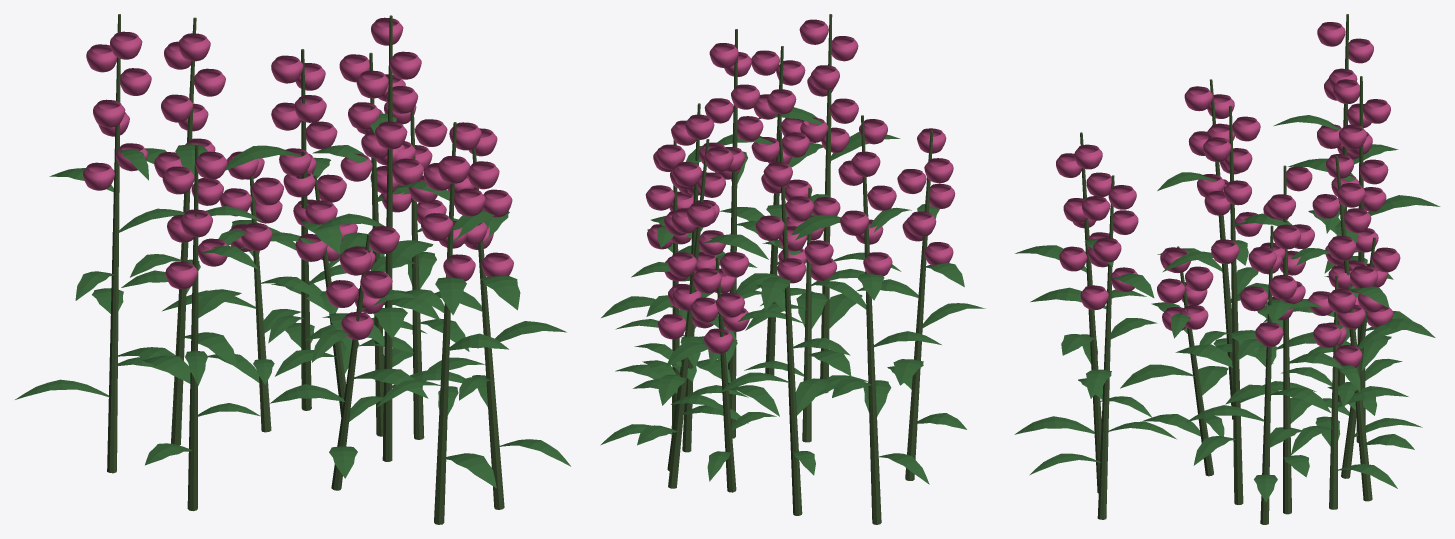
The model's file is detail_fireweed.glb.
The picture shows the model from 3 angles, left to right: view 1: azimuth 30°, elevation 25°; view 2: azimuth 150°, elevation 25°; view 3: azimuth 270°, elevation 25°; orthographic projection. The views are drawn at different scales.
Visible parts, largest first — view 1: IndividualFireweedLeaves, FireweedStem9, FireweedStem2, FireweedStem4, FireweedStem5, FireweedStem10, FireweedStem1, FireweedStem0, FireweedStem11, FireweedStem6, FireweedStem7, FireweedStem8 (+46 smaller); view 2: IndividualFireweedLeaves, FireweedStem9, FireweedStem1, FireweedStem4, FireweedStem11, FireweedStem2, FireweedStem5, FireweedStem6, FireweedStem7, FireweedStem10, FireweedStem8, FireweedBloom9_3 (+48 smaller); view 3: IndividualFireweedLeaves, FireweedStem5, FireweedStem10, FireweedStem8, FireweedStem2, FireweedStem11, FireweedStem0, FireweedStem3, FireweedStem4, FireweedStem7, FireweedStem6, FireweedStem1 (+41 smaller).
Part boxes in pixels (bbox=[...]): IndividualFireweedLeaves: bbox=[15, 113, 570, 488]; FireweedStem9: bbox=[107, 14, 120, 473]; FireweedStem2: bbox=[434, 122, 456, 524]; FireweedStem4: bbox=[187, 144, 198, 511]; FireweedStem5: bbox=[382, 15, 392, 461]; FireweedStem10: bbox=[472, 147, 504, 509]; FireweedStem1: bbox=[171, 17, 196, 445]; FireweedStem0: bbox=[410, 108, 424, 439]; FireweedStem11: bbox=[301, 49, 311, 410]; FireweedStem6: bbox=[250, 176, 271, 432]; FireweedStem7: bbox=[331, 233, 370, 490]; FireweedStem8: bbox=[369, 52, 384, 436]; IndividualFireweedLeaves: bbox=[600, 107, 985, 484]; FireweedStem9: bbox=[861, 115, 881, 524]; FireweedStem1: bbox=[779, 128, 802, 515]; FireweedStem4: bbox=[905, 130, 933, 480]; FireweedStem11: bbox=[668, 139, 709, 488]; FireweedStem2: bbox=[820, 14, 832, 393]; FireweedStem5: bbox=[728, 29, 737, 438]; FireweedStem6: bbox=[715, 256, 736, 492]; FireweedStem7: bbox=[802, 187, 811, 442]; FireweedStem10: bbox=[765, 46, 783, 375]; FireweedStem8: bbox=[682, 103, 700, 452]; FireweedBloom9_3: bbox=[867, 185, 896, 210]; IndividualFireweedLeaves: bbox=[1014, 115, 1440, 501]; FireweedStem5: bbox=[1229, 105, 1243, 504]; FireweedStem10: bbox=[1097, 175, 1114, 519]; FireweedStem8: bbox=[1283, 165, 1291, 514]; FireweedStem2: bbox=[1080, 132, 1101, 493]; FireweedStem11: bbox=[1335, 156, 1372, 501]; FireweedStem0: bbox=[1260, 225, 1273, 524]; FireweedStem3: bbox=[1329, 275, 1338, 509]; FireweedStem4: bbox=[1209, 79, 1233, 419]; FireweedStem7: bbox=[1177, 246, 1213, 476]; FireweedStem6: bbox=[1341, 237, 1375, 478]; FireweedStem1: bbox=[1356, 76, 1365, 443].
Size of the model in its own units: 1.19 by 1.25 by 1.21.
